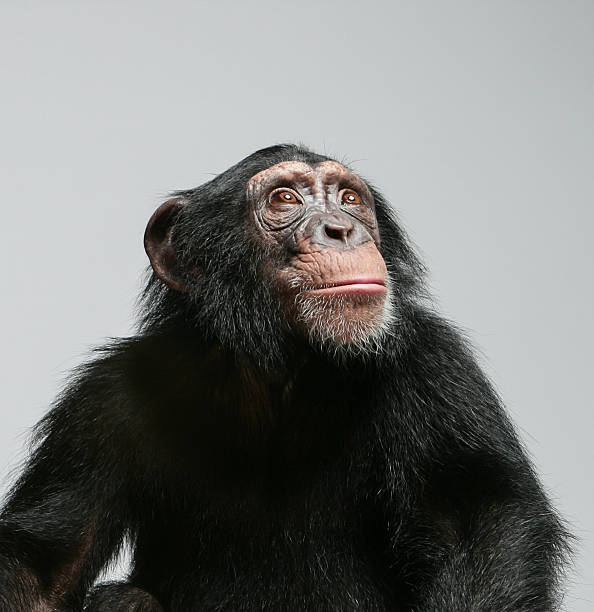chimpanzee: (124, 112, 470, 388)
